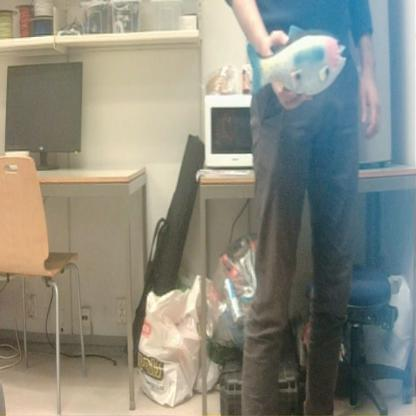rubberfish: (236, 20, 350, 103)
